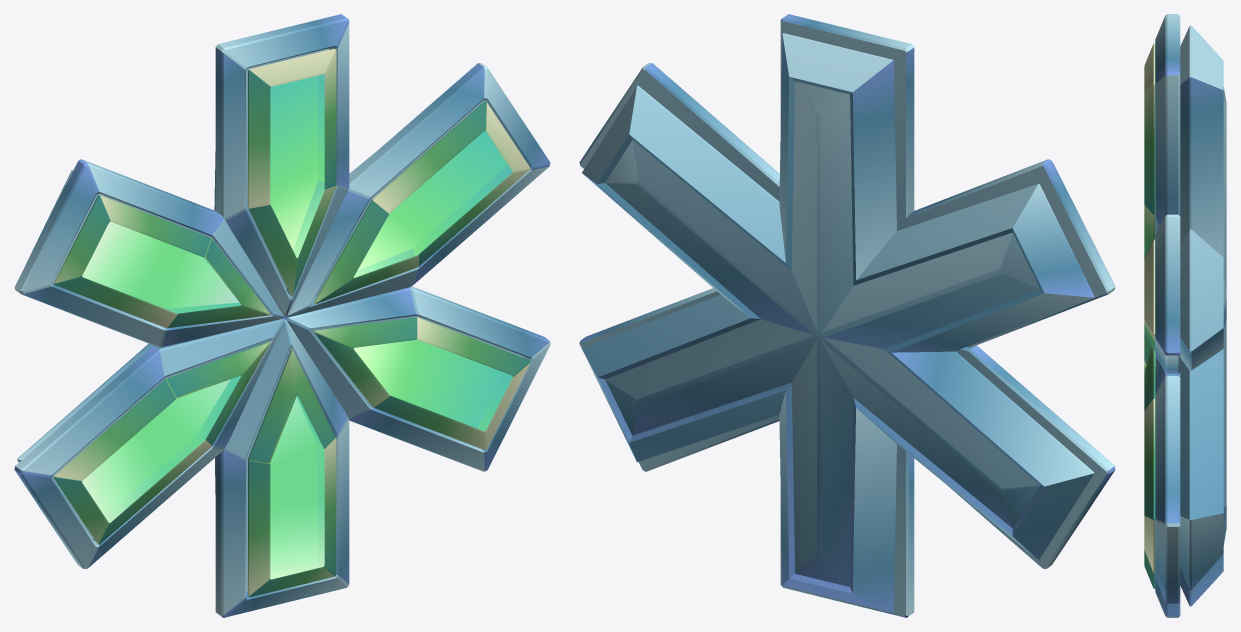
File: 003-designx.glb
3 views of the same model, side by side, from view 1: azimuth 30°, elevation 25°; view 2: azimuth 150°, elevation 25°; view 3: azimuth 270°, elevation 25° (orthographic). The views are drawn at different scales.
Parts seen in each view (by area): view 1: 003.base; view 2: 003.base; view 3: 003.base.
Part boxes in pixels (x1,y1,x2,y2): 003.base: (14,14,550,617); 003.base: (579,14,1115,617); 003.base: (1144,14,1226,617).
Size of the model in its own units: 1.63 by 1.67 by 0.2292.
Materials: 4 (4 with a texture image).
